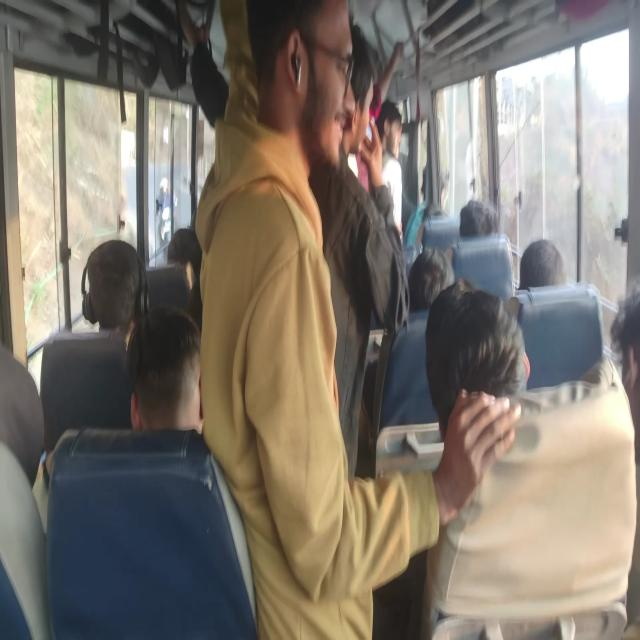person: (417, 288, 523, 436), (246, 14, 341, 174), (596, 297, 640, 566), (517, 230, 609, 346), (312, 31, 389, 165), (137, 308, 215, 437), (0, 351, 67, 466), (98, 239, 154, 332), (362, 78, 404, 172), (412, 234, 456, 314), (167, 228, 206, 286), (453, 200, 490, 239)
